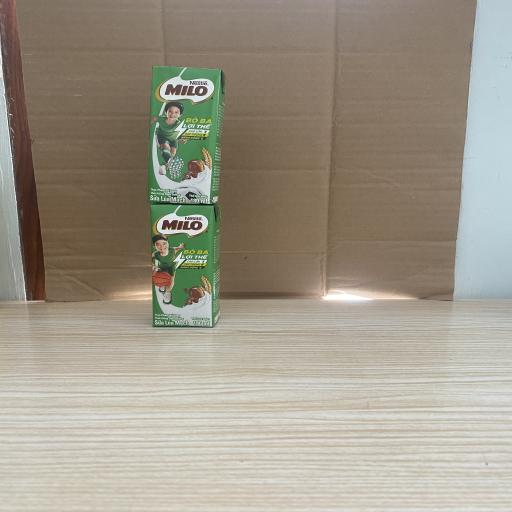milo: (146, 65, 226, 205), (150, 204, 221, 328)
